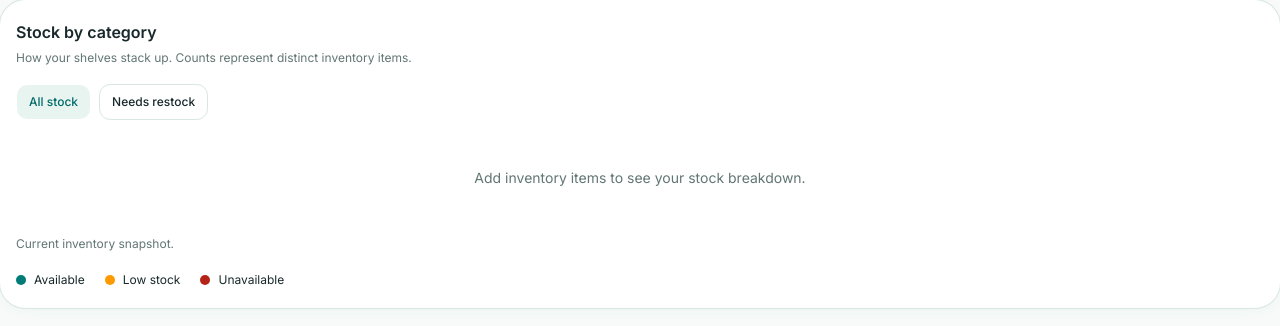
it: shows an honest empty state instead of empty graph axes
This screenshot has width=1280, height=326.
Expected: the text "Add inventory items to see your stock breakdown." is shown, [474,168,806,186]
Click the button "Needs restock" at x=154, y=102, box [99,84,208,120]
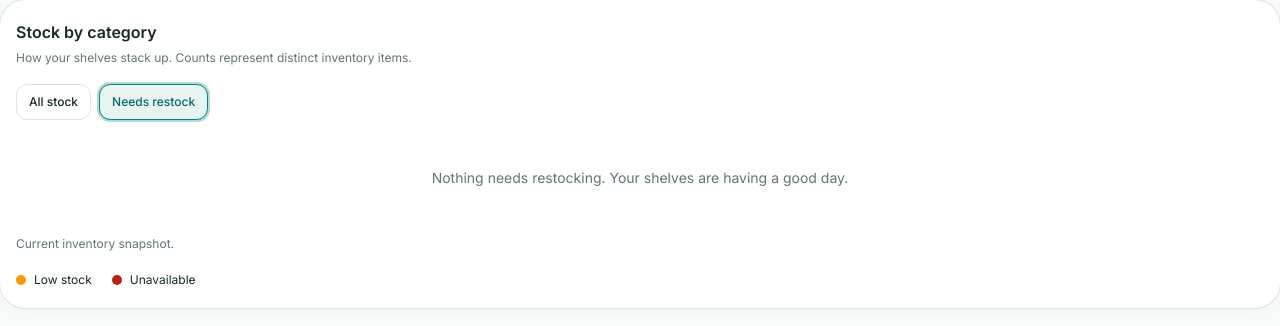
Now the text "Nothing needs restocking" is shown, box [432,168,848,186]
